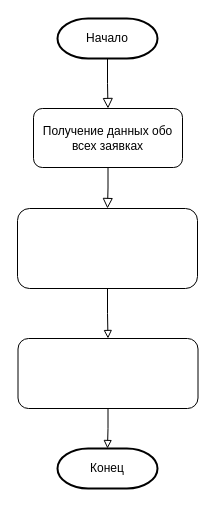
The diagram is 216 pixels wide and 506 high, and some of its shapes have lost their labels. Each missing label, with the centre of its shape:
Сортировка данных по типам неисправностей и приоритета заявки: (x=107, y=248)
Сохранение данных в документный отчёт: (x=107, y=373)
